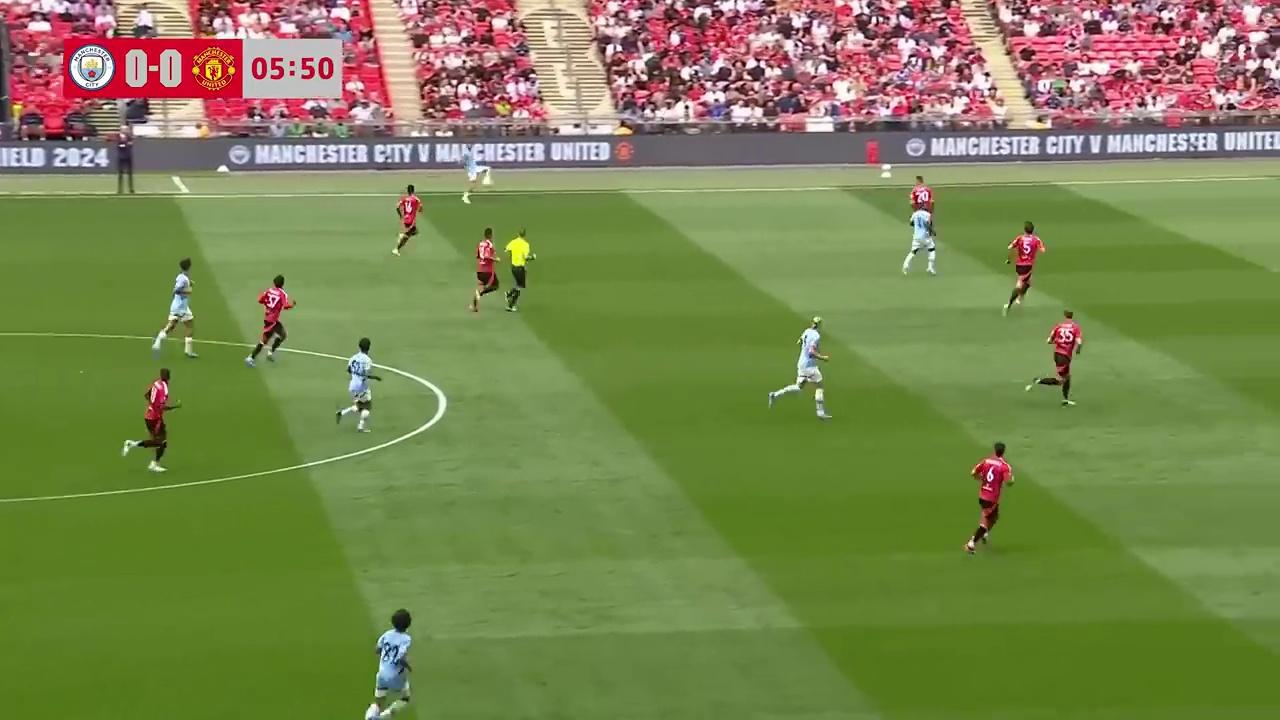player: (774, 316, 832, 420), (362, 607, 414, 718), (122, 367, 175, 473), (964, 443, 1014, 554), (245, 274, 296, 366), (152, 258, 198, 358), (1002, 221, 1045, 317), (337, 338, 380, 432), (1043, 310, 1082, 405), (468, 227, 502, 315), (905, 200, 939, 276), (393, 184, 422, 257), (461, 150, 493, 203), (907, 174, 937, 226)
referee: (502, 228, 536, 312)
